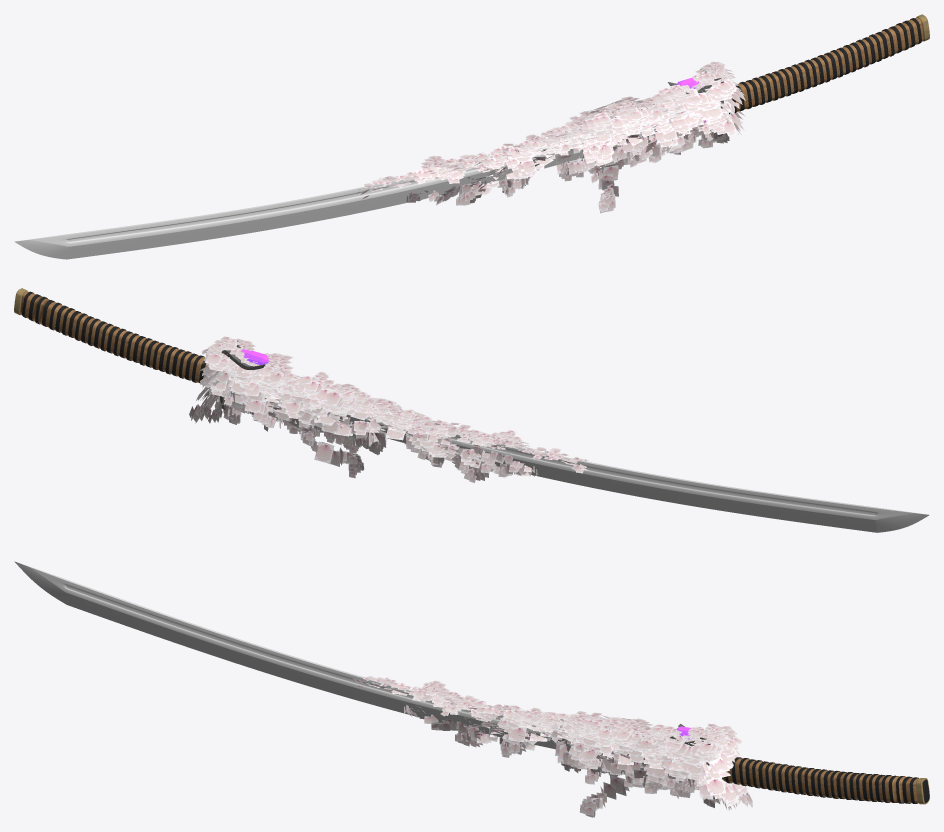
File: yoru_no_hana__katana_hero_sword_model.glb
The picture shows the model from 3 angles, top to bottom: view 1: azimuth 30°, elevation 25°; view 2: azimuth 150°, elevation 25°; view 3: azimuth 330°, elevation 25°; orthographic projection.
Visible parts, largest first — view 1: SAKURA LEAVES, BLADE, HANDLE; view 2: SAKURA LEAVES, BLADE, HANDLE; view 3: SAKURA LEAVES, BLADE, HANDLE.
Boxes of the visible parts, x1,y1,x2,y2 form: SAKURA LEAVES: (356,61,745,213); BLADE: (14,120,705,259); HANDLE: (729,14,929,114); SAKURA LEAVES: (189,336,588,482); BLADE: (346,414,929,532); HANDLE: (14,288,208,383); SAKURA LEAVES: (353,676,752,817); BLADE: (14,561,644,759); HANDLE: (722,757,929,804).
Bounding box in the file's own units: 4.26 × 0.5087 × 0.2423.
Materials: 8 (4 with a texture image).
